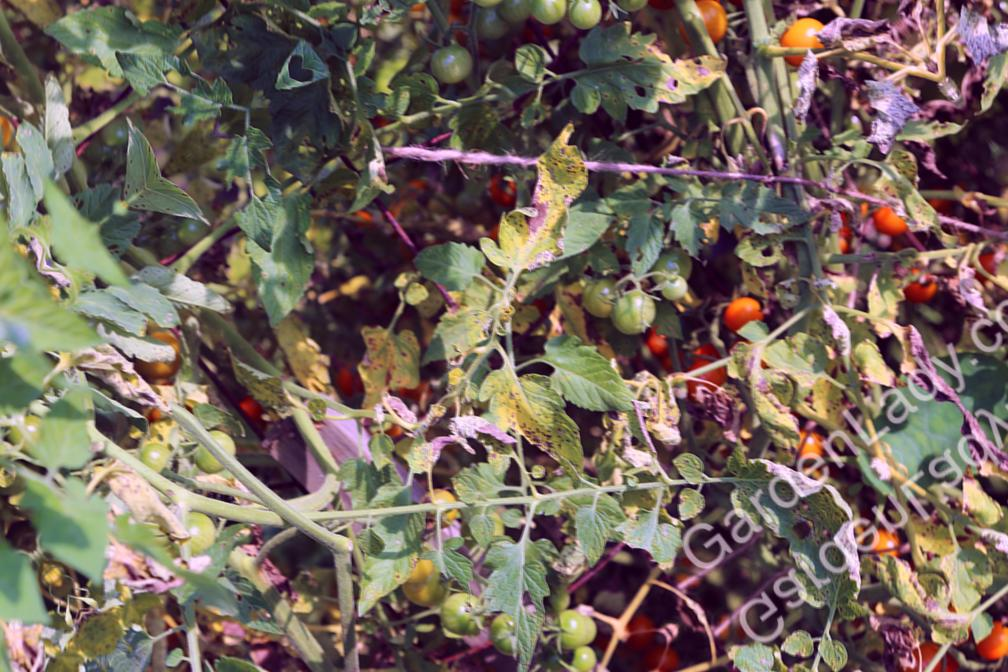Tomato Early blight leaf: (451, 118, 638, 297), (550, 0, 728, 158), (473, 347, 607, 492), (218, 188, 357, 327), (331, 494, 464, 616), (335, 311, 439, 414), (409, 289, 505, 376)
Tomato leaf: (530, 317, 648, 442)
